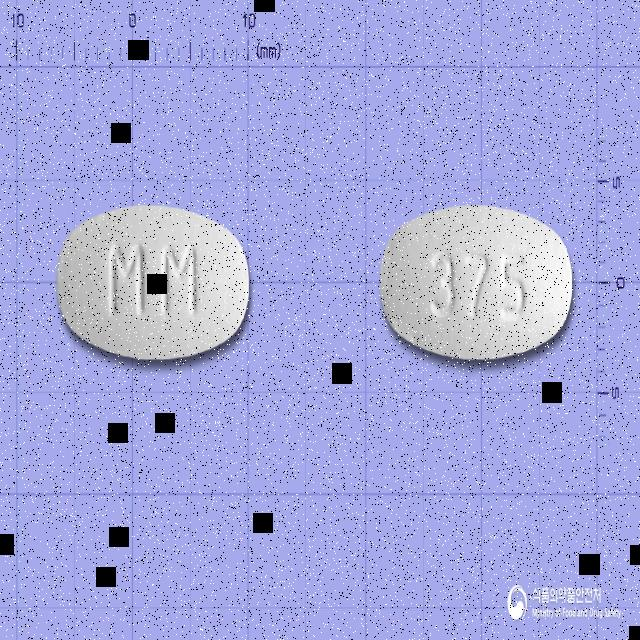Amoclan - Myungmoon: (377, 198, 577, 364), (55, 202, 253, 364)
